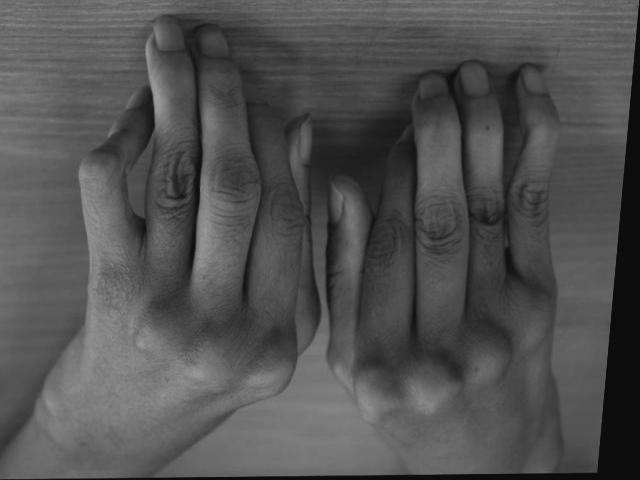not-gloved: (60, 20, 322, 480), (330, 62, 564, 458)
